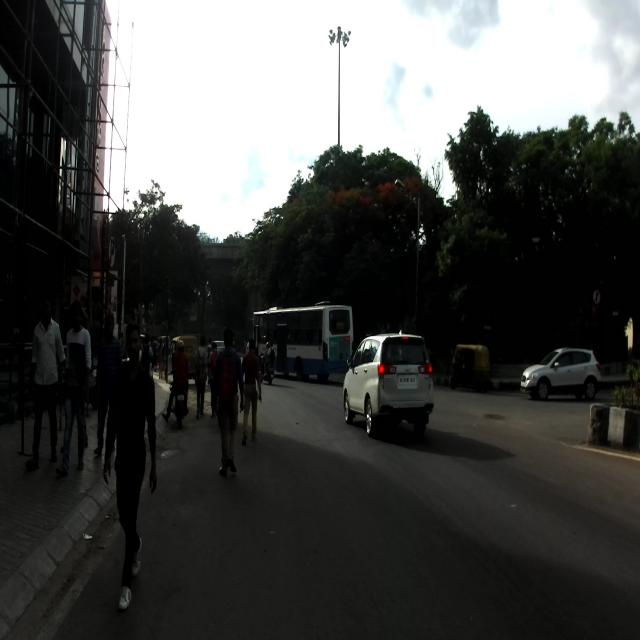car: (342, 330, 435, 438), (518, 347, 604, 401)
